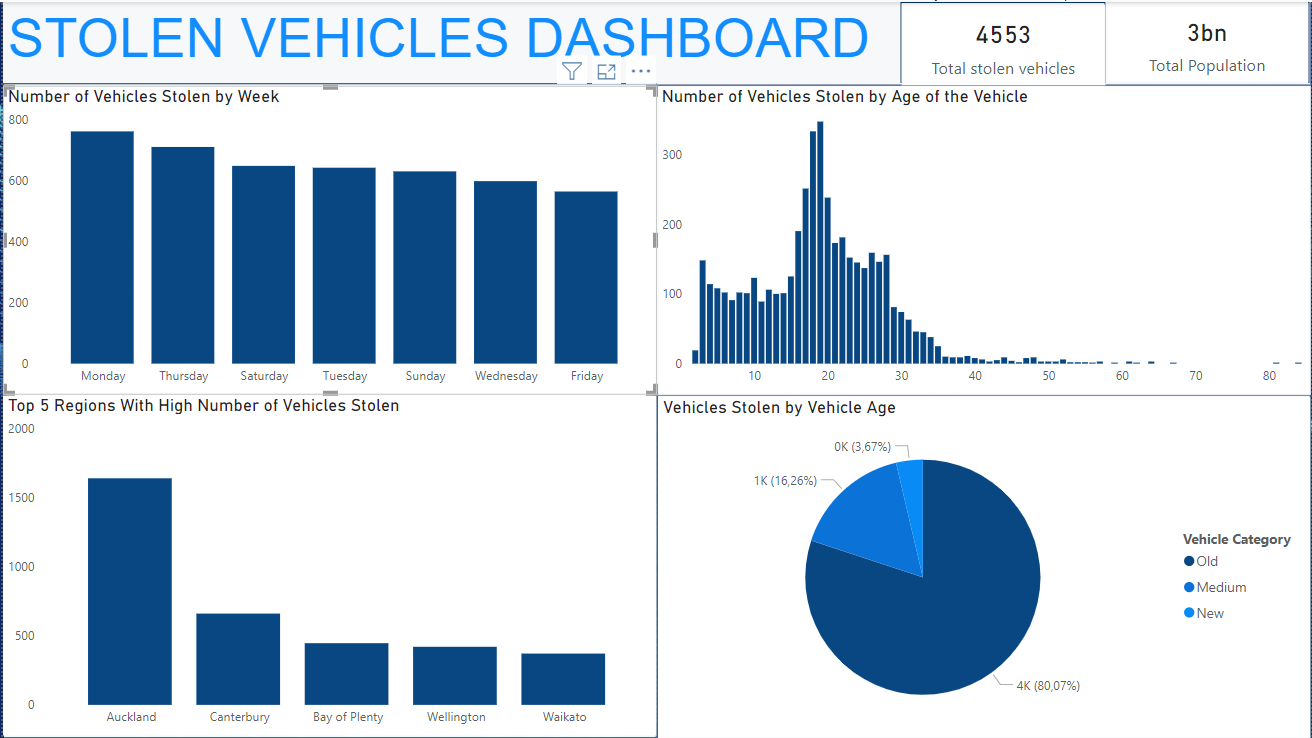

The page's visual inventory and layout, read from the dashboard file:
{"tool":"powerbi","page":{"name":"Page 2","canvas":[1280,720],"ordinal":1},"visuals":[{"type":"textbox","box":[0,0,1280.3,80.7],"z":0},{"type":"shape","box":[0,79.5,639.5,304.5],"z":1000},{"type":"shape","box":[0,384,639.5,336.3],"z":2000},{"type":"shape","box":[878,0,200.5,79.5],"z":3000},{"type":"card","fields":{"Values":["Measure calculations.Total stolen vehicles"]},"box":[879.2,2.4,199.3,79.5],"z":4000},{"type":"shape","box":[1078.5,0,200.5,79.5],"z":5000},{"type":"card","fields":{"Values":["Measure calculations.Total Population"]},"box":[1078.5,0,199.3,79.5],"z":6000},{"type":"clusteredColumnChart","title":"Number of Vehicles Stolen by Week","fields":{"Y":["Measure calculations.Days theft"],"Category":["Stolen_vehicled_Merged.Day of week"]},"box":[0,81.9,639.5,302],"z":7000},{"type":"shape","box":[639.5,384,640.8,336.3],"z":8000},{"type":"shape","box":[640.8,81.9,639.5,302],"z":9000},{"type":"clusteredColumnChart","title":"Number of Vehicles Stolen by Age of the Vehicle","fields":{"Y":["Measure calculations.vehicle average age"],"Category":["Stolen_vehicled_Merged.Vehicle Age"]},"box":[639.5,81.9,640.8,302],"z":10000},{"type":"pieChart","title":"Vehicles Stolen by Vehicle Age","fields":{"Y":["Measure calculations.Vehicle Category"],"Category":["Stolen_vehicled_Merged.Vehicle Category"]},"box":[640.8,386.4,639.5,333.8],"z":11000},{"type":"lineClusteredColumnComboChart","title":"Top 5 Regions With High Number of Vehicles Stolen","fields":{"Category":["Stolen_vehicled_Merged.region"],"Y":["Measure calculations.No_of_vehicle_stolen_by_age"]},"box":[0,384,639.5,333.8],"z":12000}]}

Visuals, with their boxes in screenshot pixels (x1, y1, x2, y2), scaled from the page's 1280x720 canvas onto the 1312x738 screenshot:
textbox: [left=0, top=0, right=1311, bottom=83]
shape: [left=0, top=81, right=655, bottom=394]
shape: [left=0, top=394, right=655, bottom=737]
shape: [left=900, top=0, right=1105, bottom=81]
card - Measure calculations.Total stolen vehicles: [left=901, top=2, right=1105, bottom=84]
shape: [left=1105, top=0, right=1311, bottom=81]
card - Measure calculations.Total Population: [left=1105, top=0, right=1310, bottom=81]
"Number of Vehicles Stolen by Week" clusteredColumnChart: [left=0, top=84, right=655, bottom=393]
shape: [left=655, top=394, right=1311, bottom=737]
shape: [left=657, top=84, right=1311, bottom=393]
"Number of Vehicles Stolen by Age of the Vehicle" clusteredColumnChart: [left=655, top=84, right=1311, bottom=393]
"Vehicles Stolen by Vehicle Age" pieChart: [left=657, top=396, right=1311, bottom=737]
"Top 5 Regions With High Number of Vehicles Stolen" lineClusteredColumnComboChart: [left=0, top=394, right=655, bottom=736]
